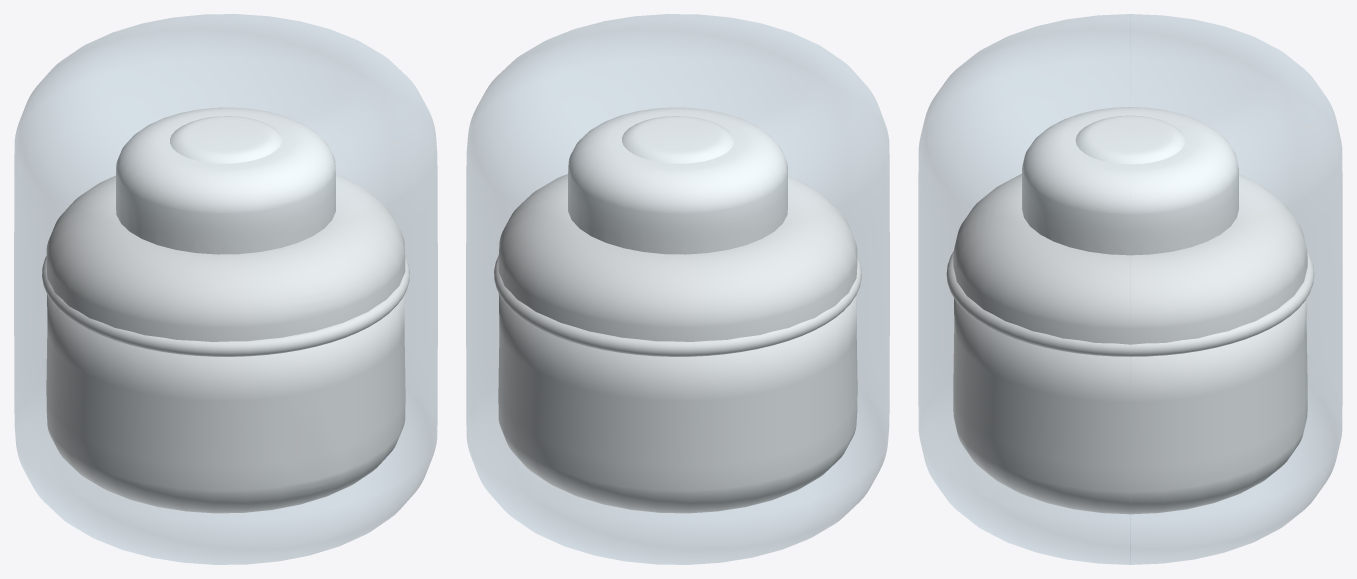
Rendered from capsule(merge).glb.
3 views of the same model, side by side, from view 1: azimuth 30°, elevation 25°; view 2: azimuth 150°, elevation 25°; view 3: azimuth 270°, elevation 25° (orthographic).
Parts seen in each view (by area): view 1: Glass.001, Inner_CoreTop, Inner_CoreButtom; view 2: Glass.001, Inner_CoreTop, Inner_CoreButtom; view 3: Glass.001, Inner_CoreTop, Inner_CoreButtom.
Part boxes in pixels (x1,y1,x2,y2): Glass.001: [14, 14, 437, 564]; Inner_CoreTop: [42, 107, 409, 356]; Inner_CoreButtom: [46, 294, 405, 513]; Glass.001: [466, 14, 889, 564]; Inner_CoreTop: [494, 107, 861, 356]; Inner_CoreButtom: [498, 293, 857, 513]; Glass.001: [918, 14, 1342, 564]; Inner_CoreTop: [946, 107, 1314, 356]; Inner_CoreButtom: [953, 298, 1307, 514].
Bounding box in the file's own units: 0.981 × 1.09 × 0.981.
